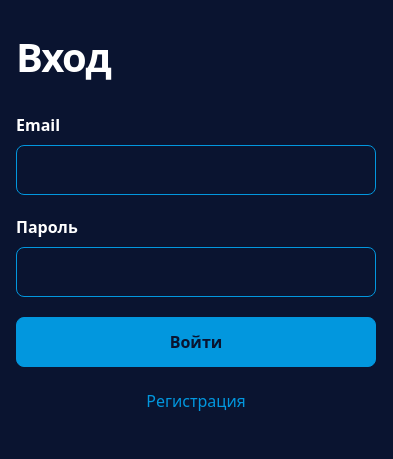
it: открывает вход и переключает регистрацию
Expected: the heading "Вход" is shown, [16,29,110,84]
Click the button "Регистрация" at (196, 401), box [136,379,256,423]
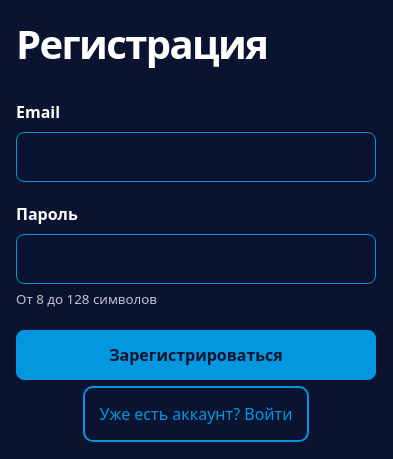
Result: the heading "Регистрация" is shown at [16,16,267,71]
Click the button "Уже есть аккаунт? Войти" at (196, 414), box [90,392,303,436]
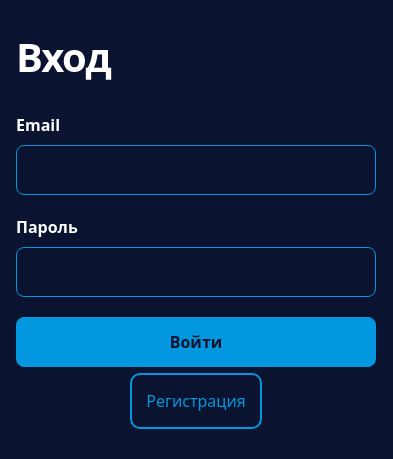
Result: the heading "Вход" is shown at [16,29,110,84]
